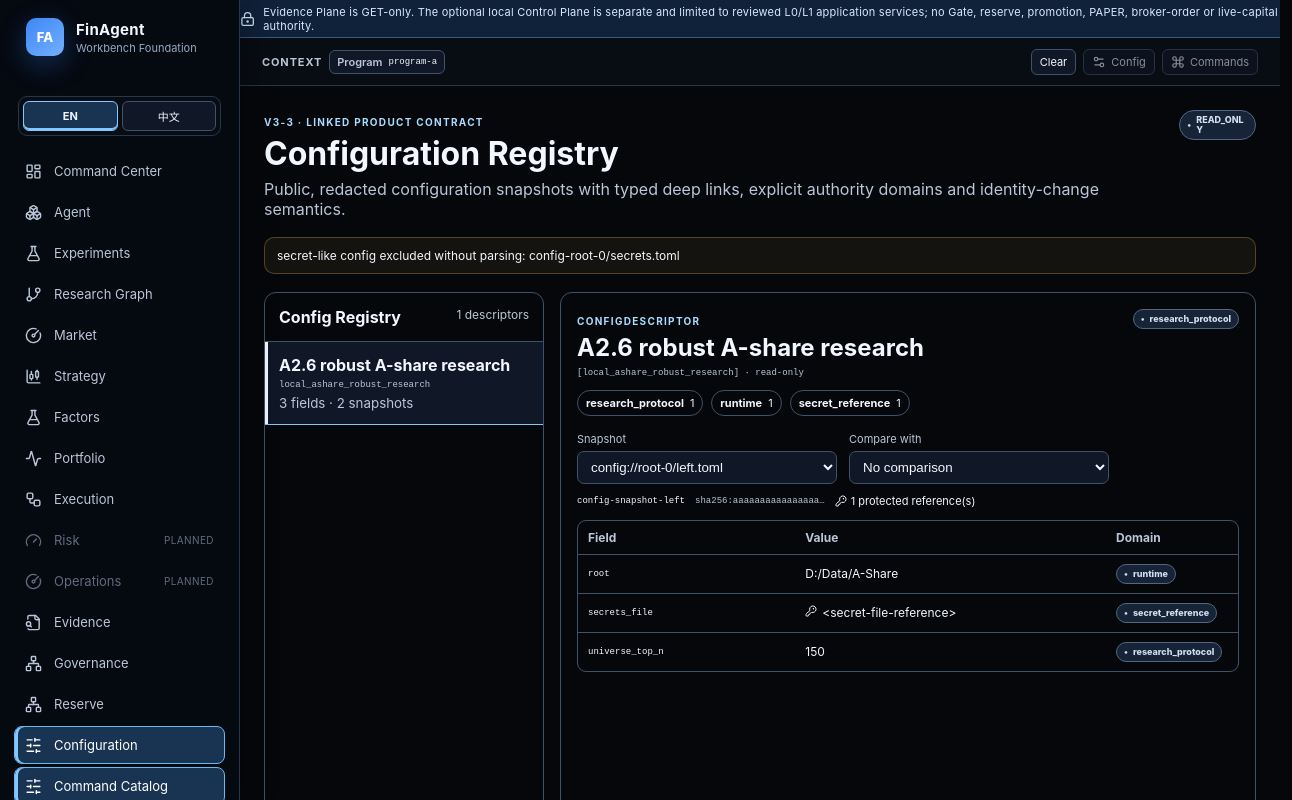
V3-2 Configuration and Command catalogs › renders read-only config domains, protected references and identity semantics
Expected: the heading "Configuration Registry" is shown, [264, 134, 619, 173]
Expected: the text "<secret-file-reference>" is shown, [805, 605, 956, 620]
Select "config://root-0/right.toml" in the dropdown labelled "Compare with". click: [979, 468]
box: [849, 451, 1109, 484]
(page scrolled)
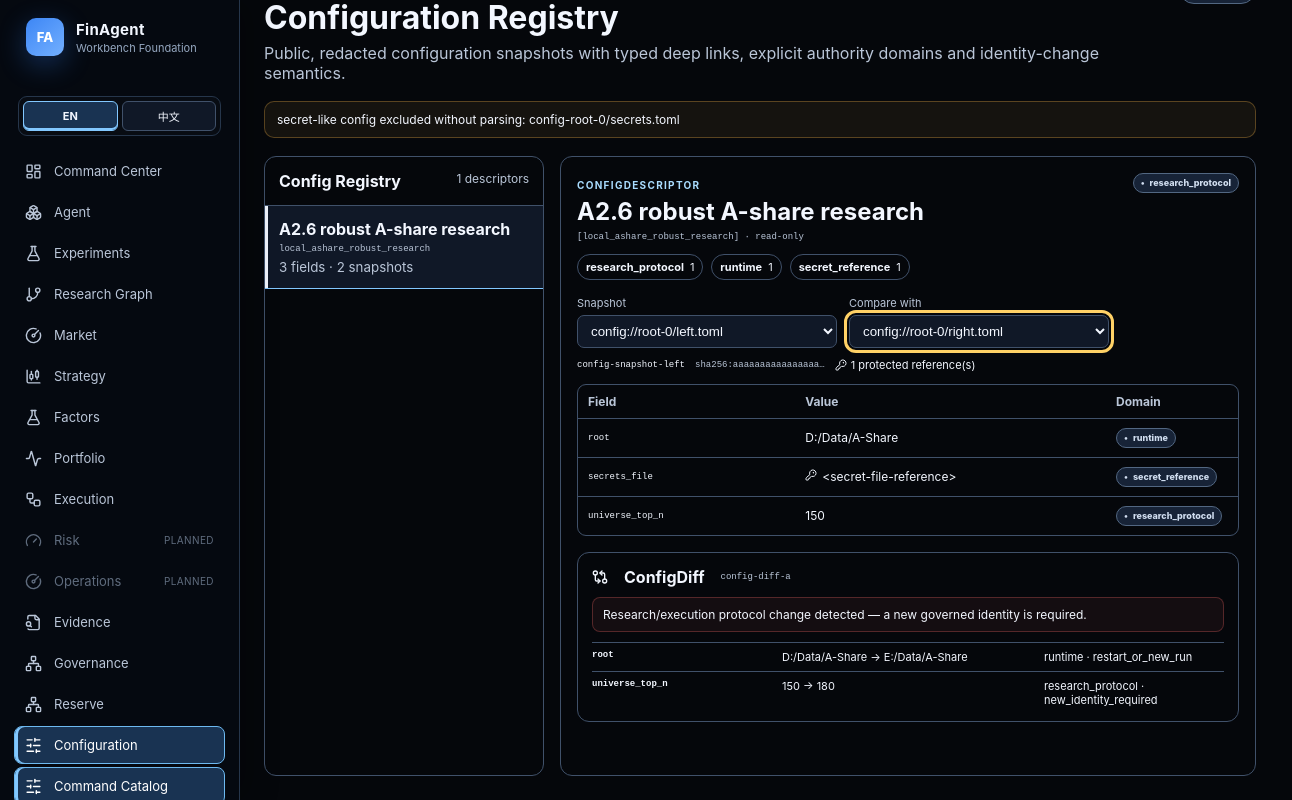
Expected: the text "new governed identity is required" is shown, [603, 607, 1087, 622]
Expected: the text "150 → 180" is shown, [782, 679, 835, 693]
